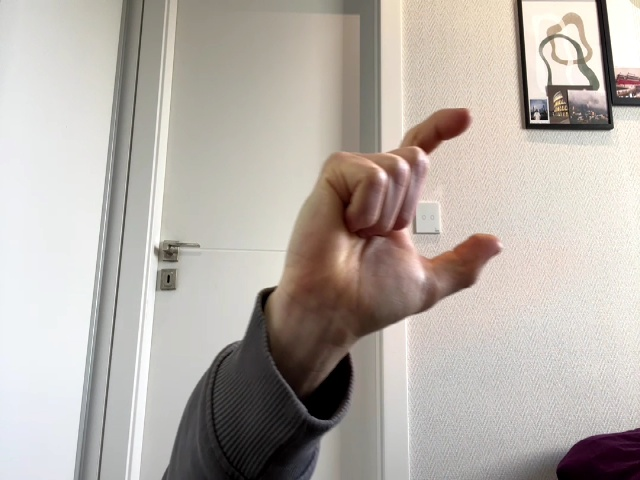C: (282, 109, 502, 333)
